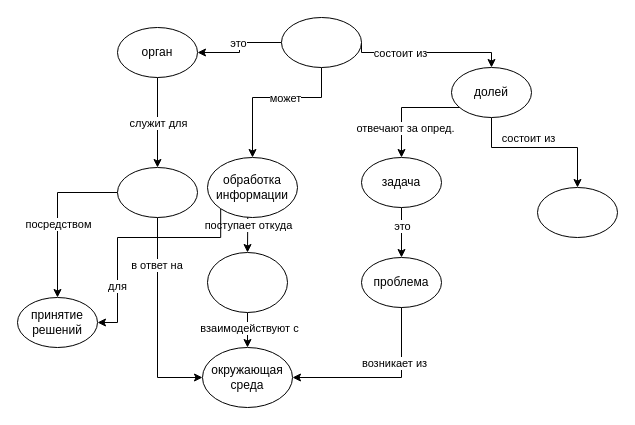
Some shapes in this 635 by 425 pixel diagram are drawn without their labels. The box of each missing label's shape, as (x1, y1, x2, y2) in pixels:
мозг: (280, 16, 362, 68)
нейронов: (536, 186, 618, 238)
органы чувств: (206, 252, 288, 312)
управление организмом: (116, 166, 198, 218)
